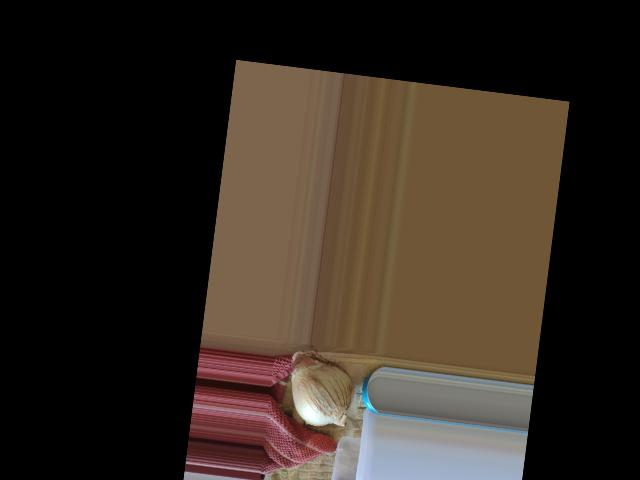onion: (283, 351, 359, 429)
